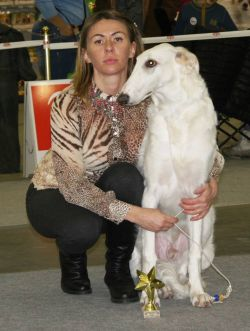borzoi: (118, 43, 226, 317)
